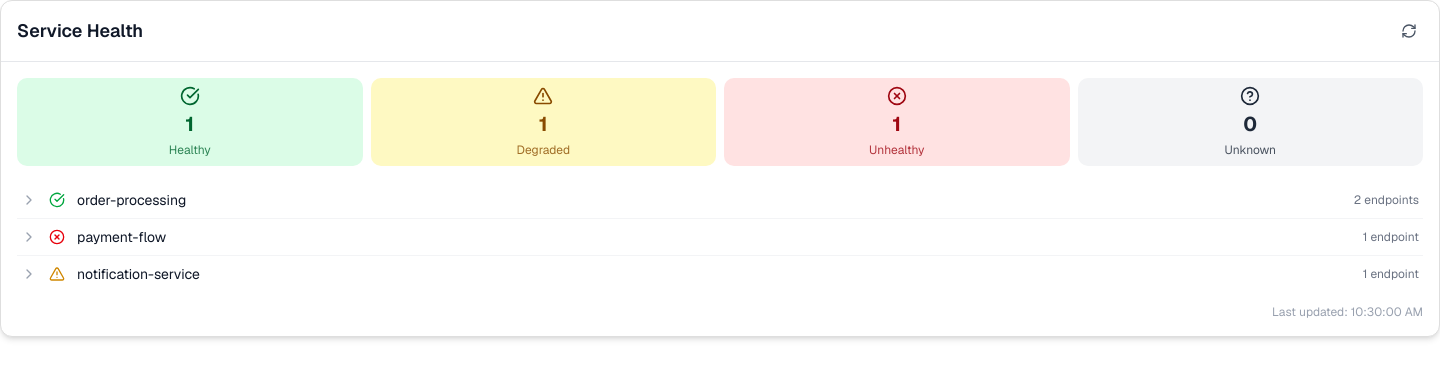
Scenario: HealthSummaryPanel › should show error message for failed tasks
Click the button with test id "workflow-row-payment-flow": (122, 237) x1=17 y1=219 x2=1423 y2=255
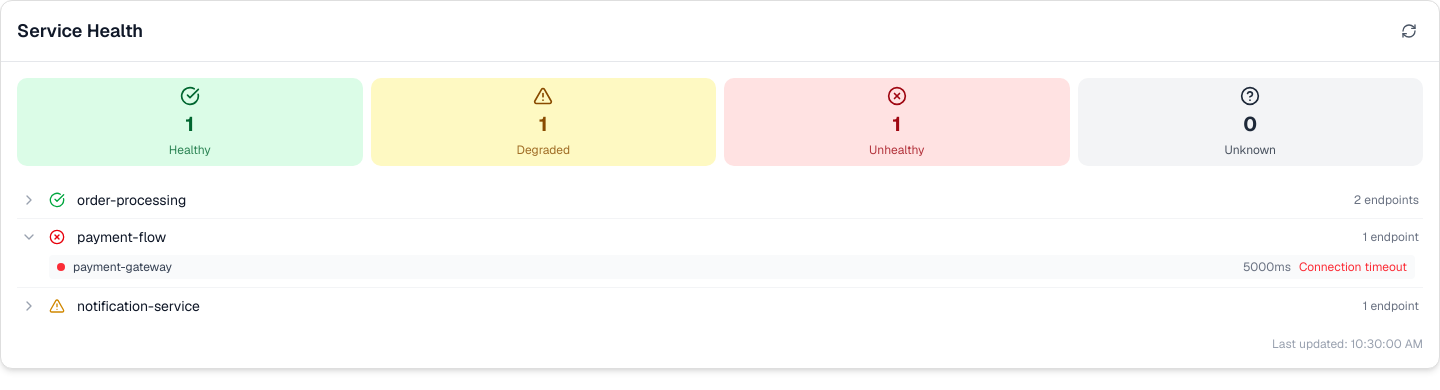
expect the text "Connection timeout" is shown: met, box x1=1299 y1=259 x2=1407 y2=275
